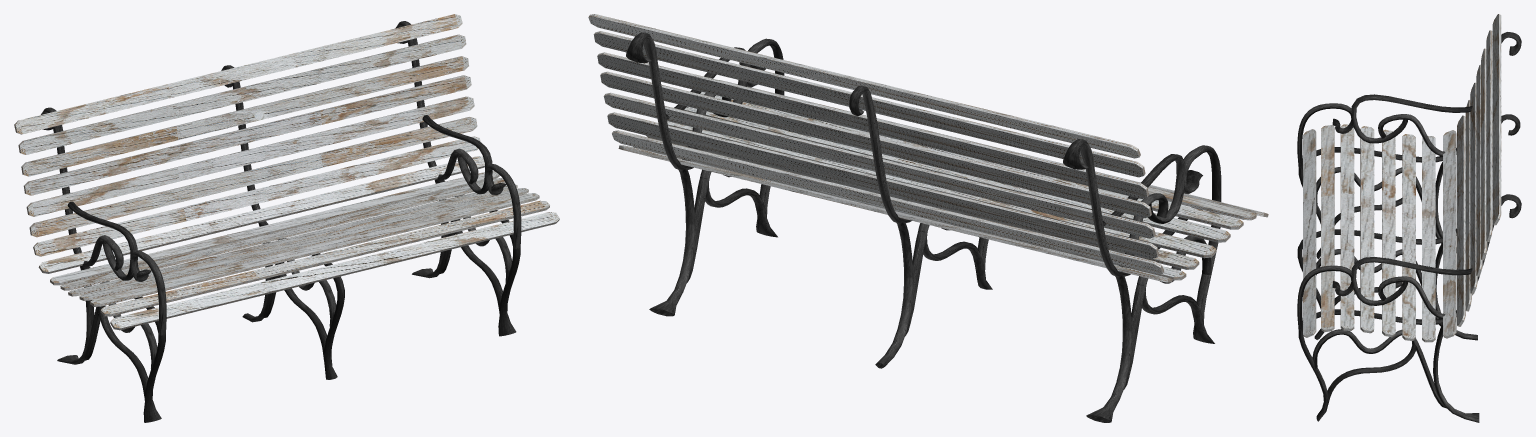
Rendered from Bench_Deco.fbx.
3 renders of one model, left to right at view 1: azimuth 30°, elevation 25°; view 2: azimuth 150°, elevation 25°; view 3: azimuth 270°, elevation 25°, orthographic. The views are drawn at different scales.
Parts seen in each view (by area): view 1: Bench_Deco_LOD0; view 2: Bench_Deco_LOD0; view 3: Bench_Deco_LOD0.
Boxes of the visible parts, left/top/right/bottom form: Bench_Deco_LOD0: left=14, top=14, right=559, bottom=422; Bench_Deco_LOD0: left=588, top=14, right=1268, bottom=422; Bench_Deco_LOD0: left=1297, top=14, right=1521, bottom=422.
Size of what is drawn, in the model's own units: 758 by 391 by 350.
